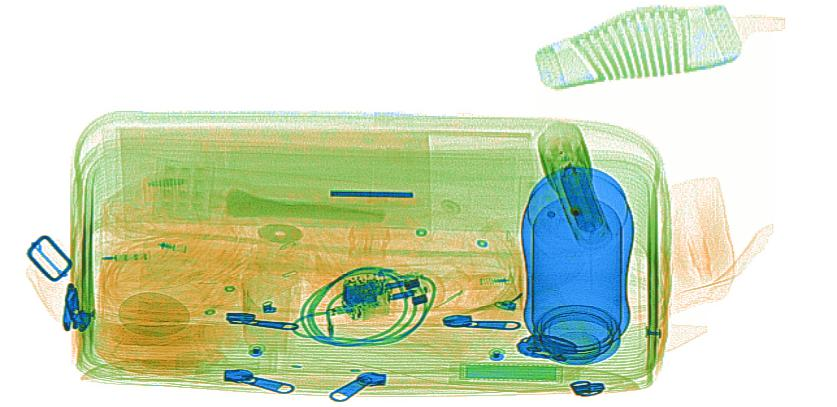battery: (560, 164, 606, 232)
